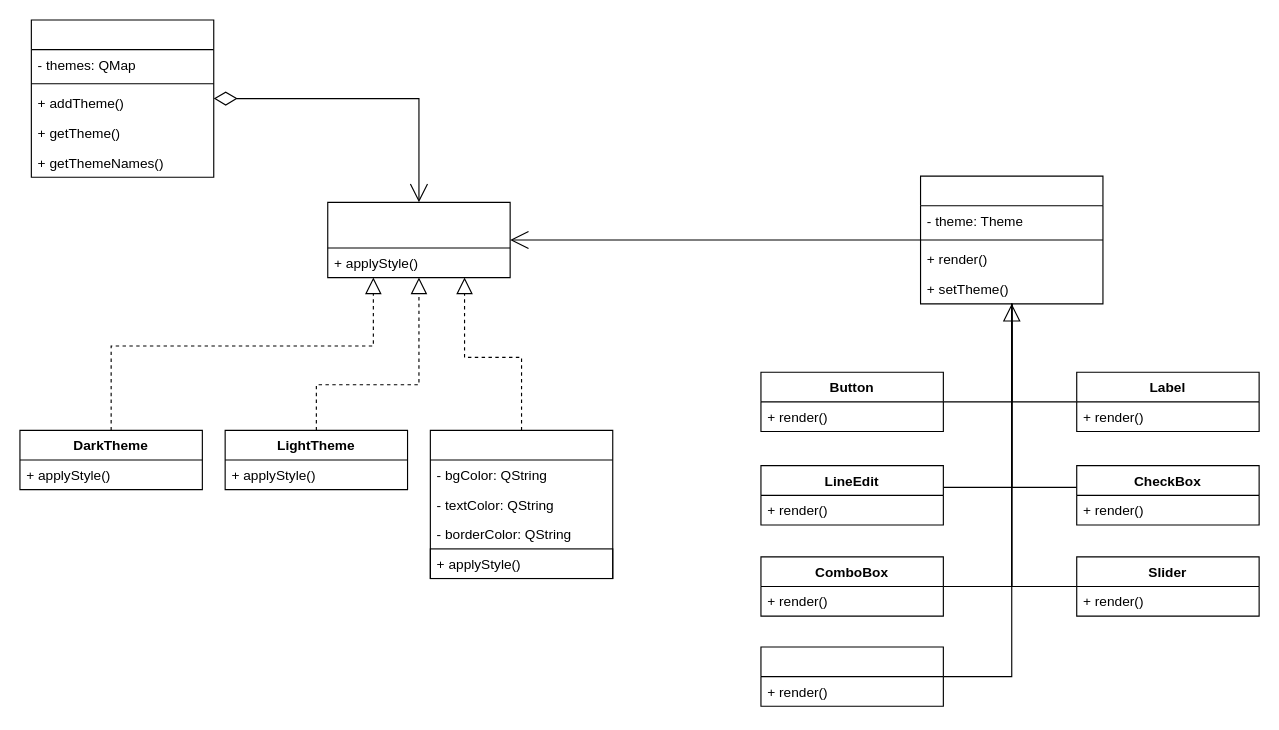
The diagram is 1279 pixels wide and 730 high, and some of its shapes have lost their labels. The shapes that lost their labels are listed below. From the top down, each one's box as (x1, y1, x2, y2) in pixels, then its label:
(30, 19, 214, 177): ThemeManager
(327, 201, 510, 278): <<Interface>> Theme
(919, 175, 1103, 304): Widget
(429, 429, 613, 579): CustomTheme
(760, 646, 943, 706): TextEdit
